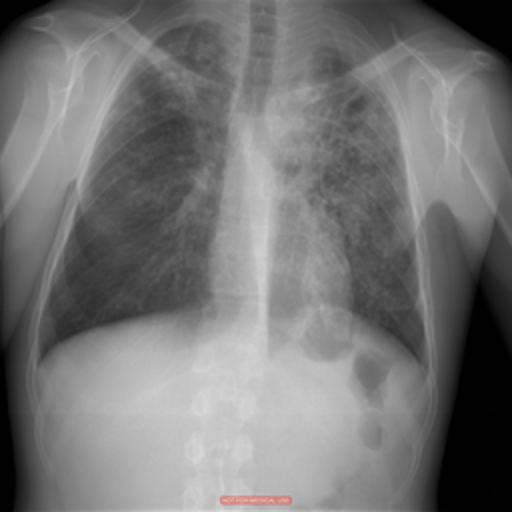TB: (303, 94, 358, 175), (161, 56, 213, 125)
